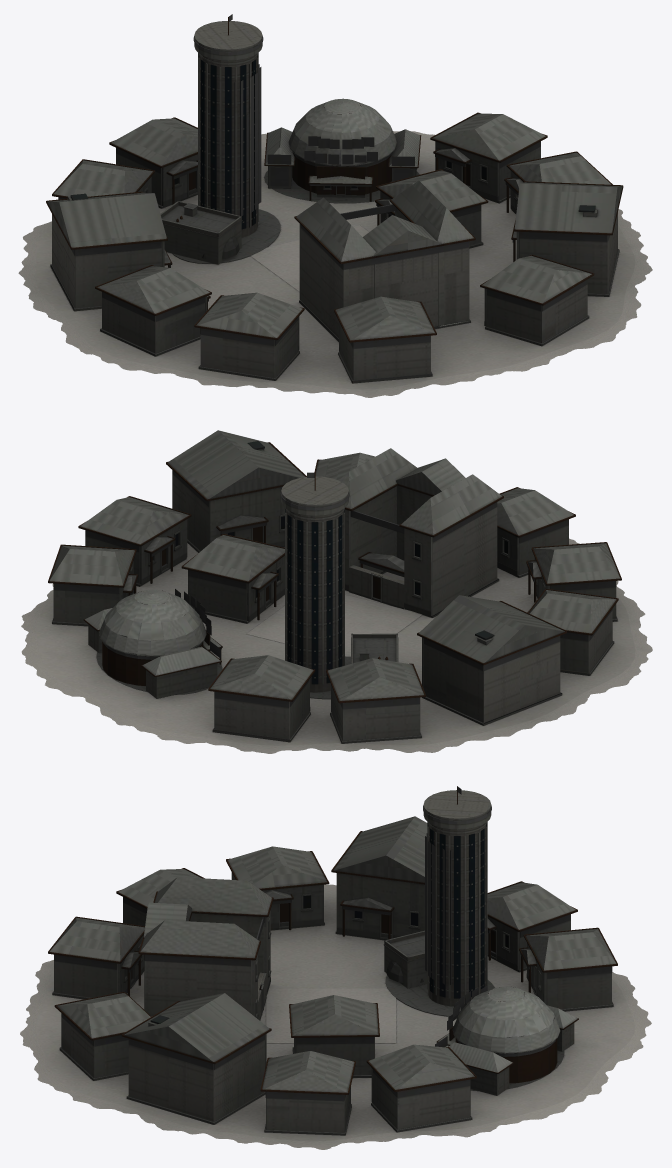
File: modern-town-medium-a-eastafrica-b21d9510.glb
3 renders of one model, top to bottom at view 1: azimuth 30°, elevation 25°; view 2: azimuth 150°, elevation 25°; view 3: azimuth 270°, elevation 25°, orthographic.
Parts seen in each view (by area): view 1: LOD0; view 2: LOD0; view 3: LOD0.
Part boxes in pixels (x1,y1,x2,y2): LOD0: (18, 14, 652, 397); LOD0: (21, 430, 652, 753); LOD0: (20, 786, 651, 1149).
Size of what is drawn, in the model's own units: 6 by 2.16 by 5.96.
Materials: 3 (3 with a texture image).
